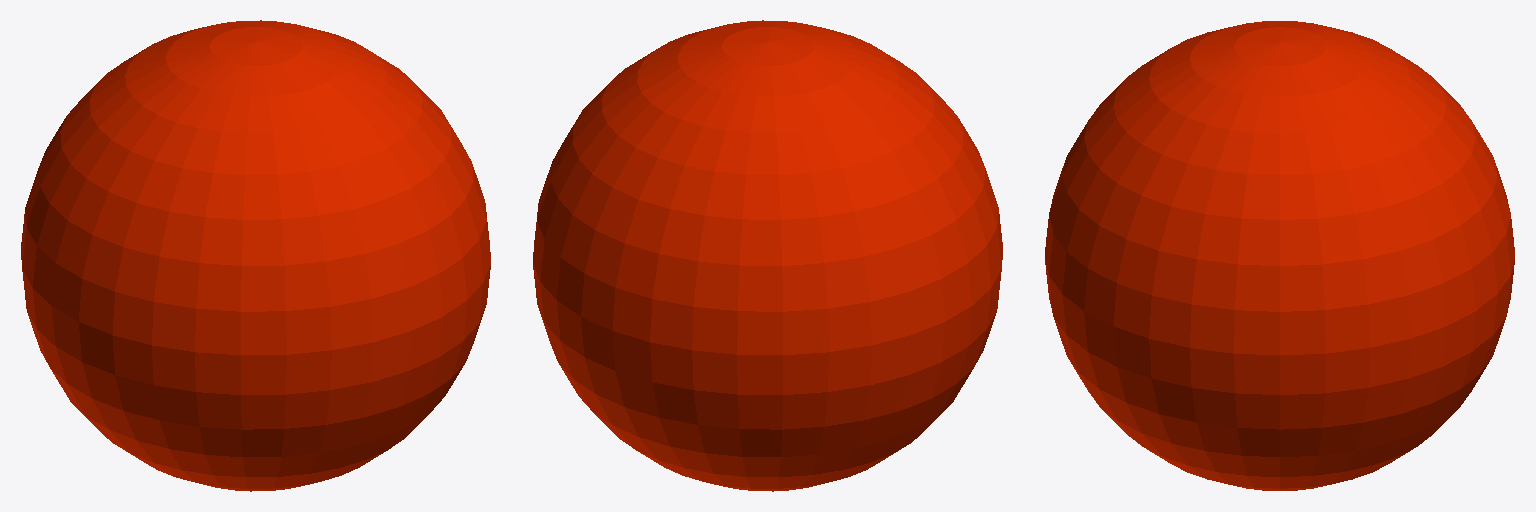
The robot description file, URDF, robot "shootingstar":
<?xml version="1.0" ?>
<robot name="shootingstar">
  <material name = "altgeld">
    <color rgba = "0.8666666667 0.203921568627451 0.011764705882353 1" />
  </material>

  <link name="shootingstar_link">
    <inertial>
      <origin rpy="0 0 0" xyz="0 0 0"/>
      <mass value="0.25"/>
      <inertia ixx="0.01" ixy="0" ixz="0" iyy="0.01" iyz="0" izz="0.01"/>
    </inertial>
    <visual>
      <origin rpy="0 0 0" xyz="0 0 0"/>
      <geometry>
        <sphere radius="0.25"/>
      </geometry>
      <material name="altgeld"/>
    </visual>
    <collision>
      <origin rpy="0 0 0" xyz="0 0 0"/>
      <geometry>
        <sphere radius="0.25"/>
      </geometry>
    </collision>
  </link>
</robot>

--- Render facts (derived) ---
3 views of the same robot in one strip: view 1: azimuth 30°, elevation 25°; view 2: azimuth 150°, elevation 25°; view 3: azimuth 270°, elevation 25° (orthographic).
Model shootingstar with 1 links and 0 joints (none), rooted at shootingstar_link, posed every joint at zero.
Links seen in each view (by area): view 1: shootingstar_link; view 2: shootingstar_link; view 3: shootingstar_link.
Link boxes in pixels (x1=…): shootingstar_link: x1=21, y1=20, x2=490, y2=491; shootingstar_link: x1=533, y1=20, x2=1002, y2=491; shootingstar_link: x1=1045, y1=21, x2=1514, y2=490.
Size in the robot's own frame: 0.5 by 0.5 by 0.5 metres.
Geometry: primitives only (box / cylinder / sphere), no mesh files.